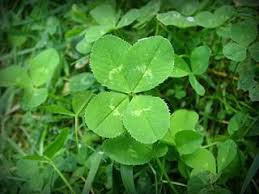4-clover: (85, 33, 175, 146)
